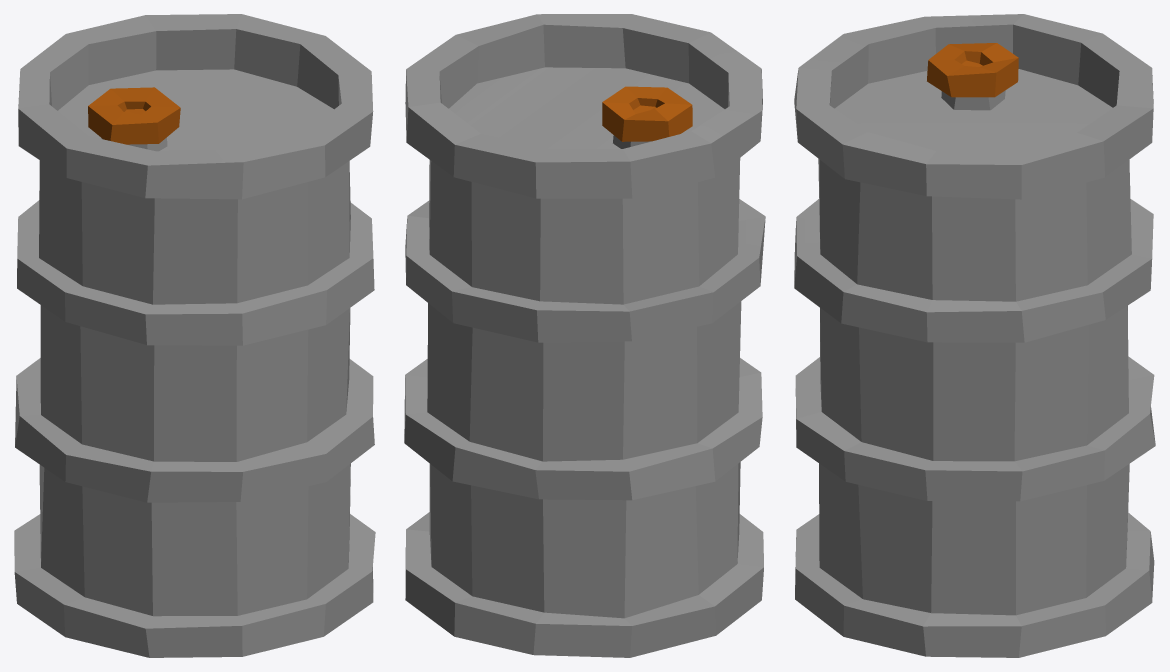
Rendered from Barrel_2.fbx.
3 renders of one model, left to right at view 1: azimuth 30°, elevation 25°; view 2: azimuth 150°, elevation 25°; view 3: azimuth 270°, elevation 25°, orthographic.
Parts seen in each view (by area): view 1: Barrel_2; view 2: Barrel_2; view 3: Barrel_2.
Boxes of the visible parts, x1,y1,x2,y2 form: Barrel_2: [14, 14, 375, 657]; Barrel_2: [404, 14, 765, 657]; Barrel_2: [794, 14, 1155, 657].
Size of the model in its own units: 23.22 by 35.34 by 23.27.
